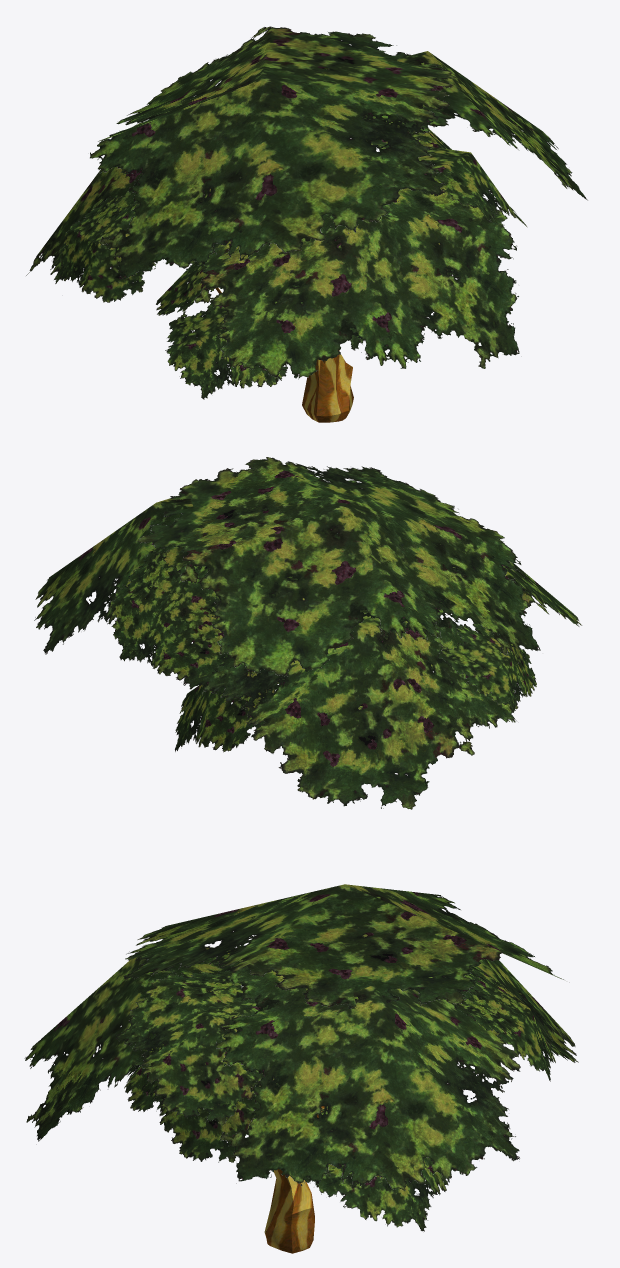
File: tree100m.dae
The picture shows the model from 3 angles, top to bottom: view 1: azimuth 30°, elevation 25°; view 2: azimuth 150°, elevation 25°; view 3: azimuth 270°, elevation 25°; orthographic projection. The views are drawn at different scales.
Visible parts, largest first — view 1: Object04, Box02; view 2: Object04; view 3: Object04, Box02.
Boxes of the visible parts, x1,y1,x2,y2 form: Object04: (26,26,587,399); Box02: (215,287,353,422); Object04: (34,457,582,809); Object04: (24,884,578,1231); Box02: (264,1106,327,1253).
Size of the model in its own units: 190 by 117 by 182.
Materials: 2 (2 with a texture image).
